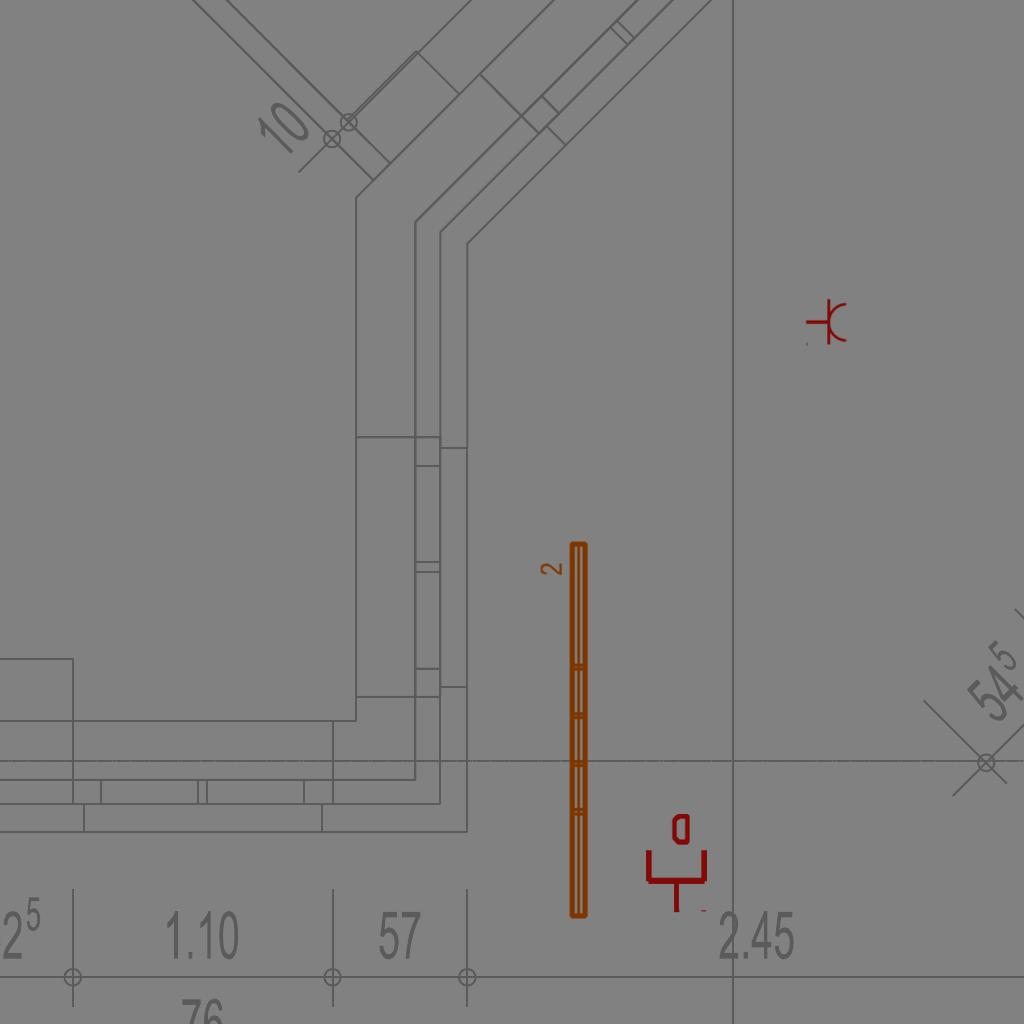Ambulanz_Pendelleuchte_LED: (538, 537, 594, 924)
Datenanschluss_einfach: (642, 814, 711, 914)
Schukosteckdose_einfach: (805, 298, 848, 348)
